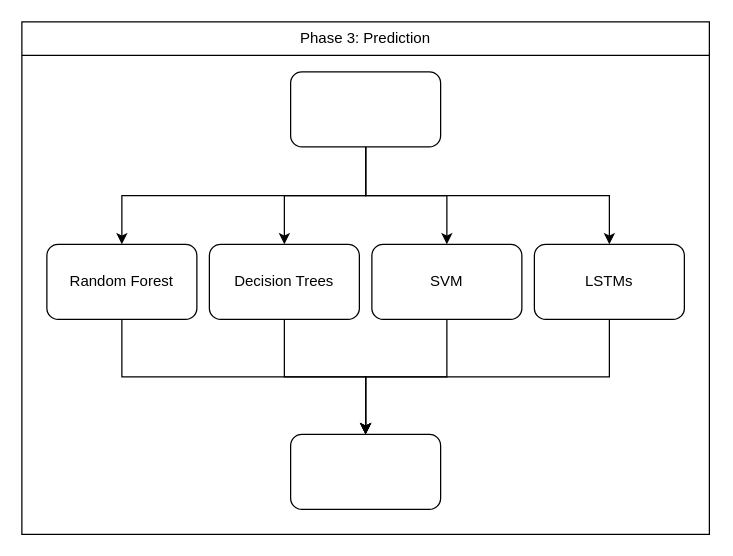
Image size: 733x556. Some labels were removed from this diagram. The centre of each missing label's shape, as x and y in pixels:
"Data Splitting" goes at (365,109).
"Precision, Recall, F-score, Accuracy" goes at (365,471).
